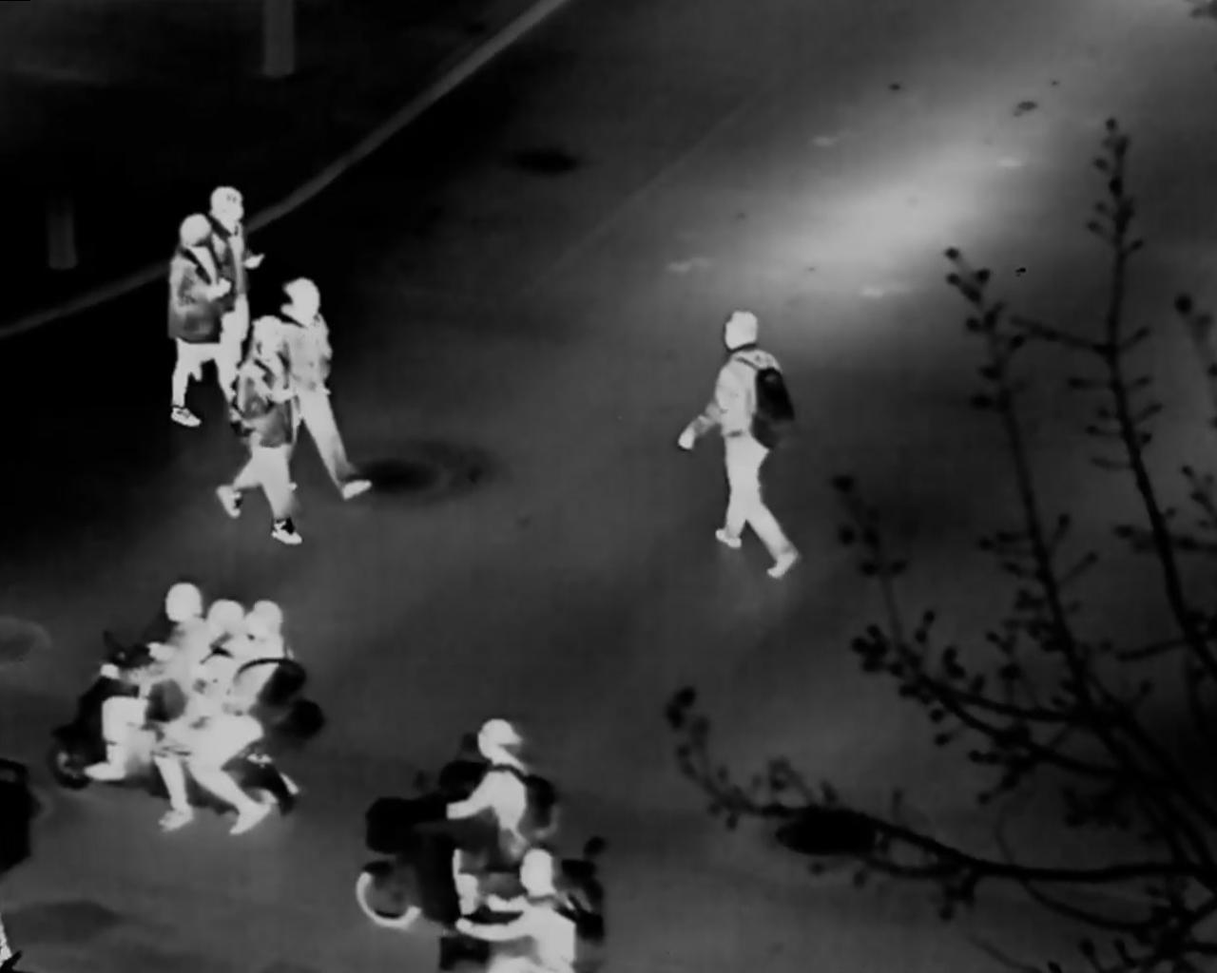person: (676, 309, 802, 579), (82, 579, 204, 783), (192, 597, 286, 838), (446, 718, 561, 912), (212, 315, 304, 547), (154, 600, 241, 835), (282, 276, 370, 501), (168, 212, 239, 427), (455, 849, 575, 973), (197, 182, 248, 401)
